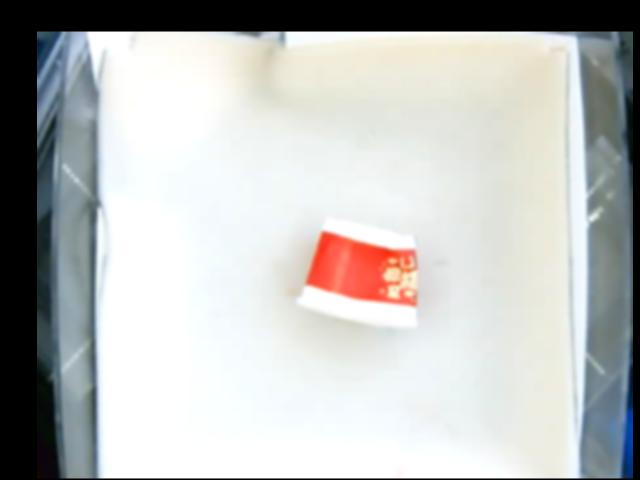Cup: (294, 219, 422, 333)
